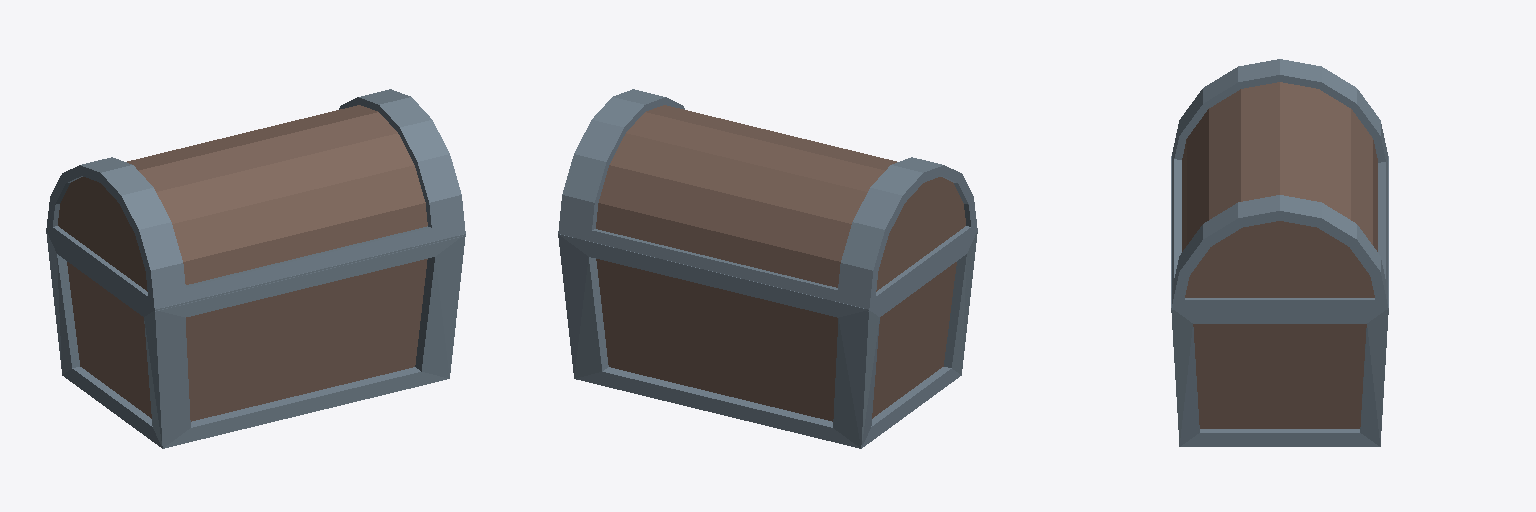
3 views of the same model, side by side, from view 1: azimuth 30°, elevation 25°; view 2: azimuth 150°, elevation 25°; view 3: azimuth 270°, elevation 25° (orthographic).
Parts seen in each view (by area): view 1: Cylinder.091, Cube.282; view 2: Cylinder.091, Cube.282; view 3: Cylinder.091, Cube.282.
Part boxes in pixels (bbox=[...]): Cylinder.091: bbox=[46, 89, 465, 311]; Cube.282: bbox=[46, 232, 465, 448]; Cylinder.091: bbox=[558, 89, 977, 311]; Cube.282: bbox=[558, 232, 977, 448]; Cylinder.091: bbox=[1171, 59, 1388, 309]; Cube.282: bbox=[1171, 156, 1388, 446].
Bounding box in the file's own units: 1.89 × 1.41 × 1.14.
Materials: 1 (1 with a texture image).